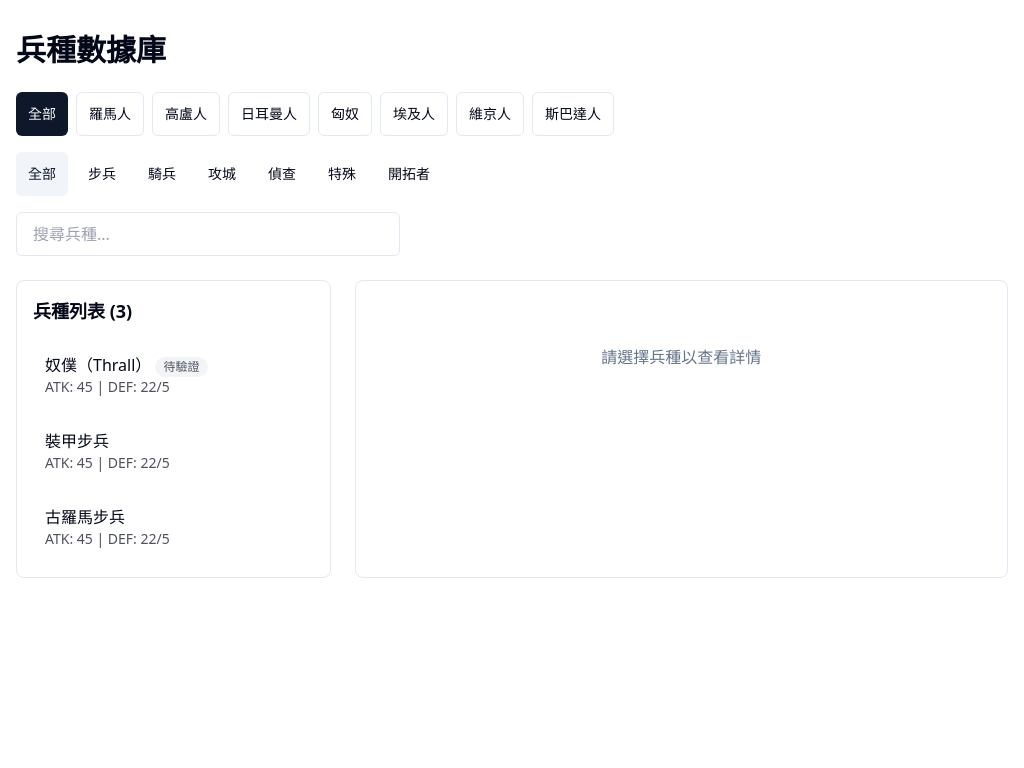
Test case: TroopsPage: Viking carry capacity is 待驗證 › 奴僕（Thrall）: carry shows 「—」 (aria-label 未提供, right-aligned), one vikingCarry chip right after; tap shows two lines under the row
Click the text "奴僕（Thrall）": {"x": 98, "y": 365} [45,354,151,376]
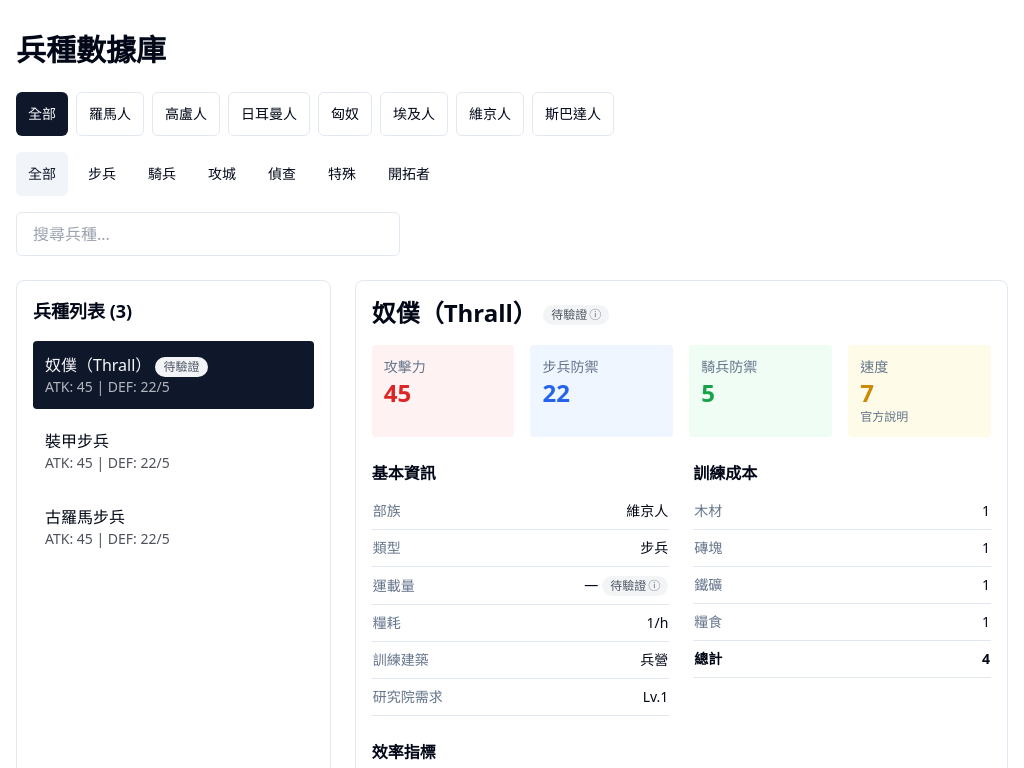
expect the text with test id "troop-carry-empty" reads "—": met, box [584,575,598,594]
Click the button with test id "pending-verify-chip": {"x": 635, "y": 586} [602,576,668,596]
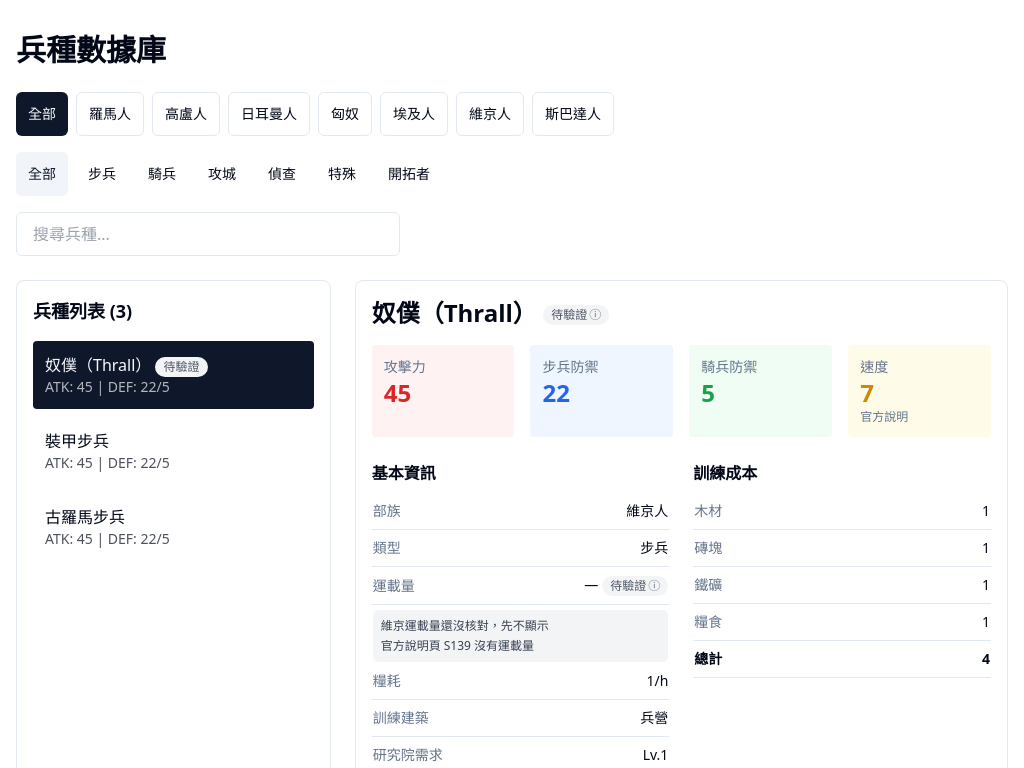
expect the element with test id "pending-note-what" reads "維京運載量還沒核對， 先不顯示": met, box [381,617,549,634]
expect the text with test id "pending-note-source" reads "官方說明頁 S139 沒有運載量": met, box [381,637,534,654]
